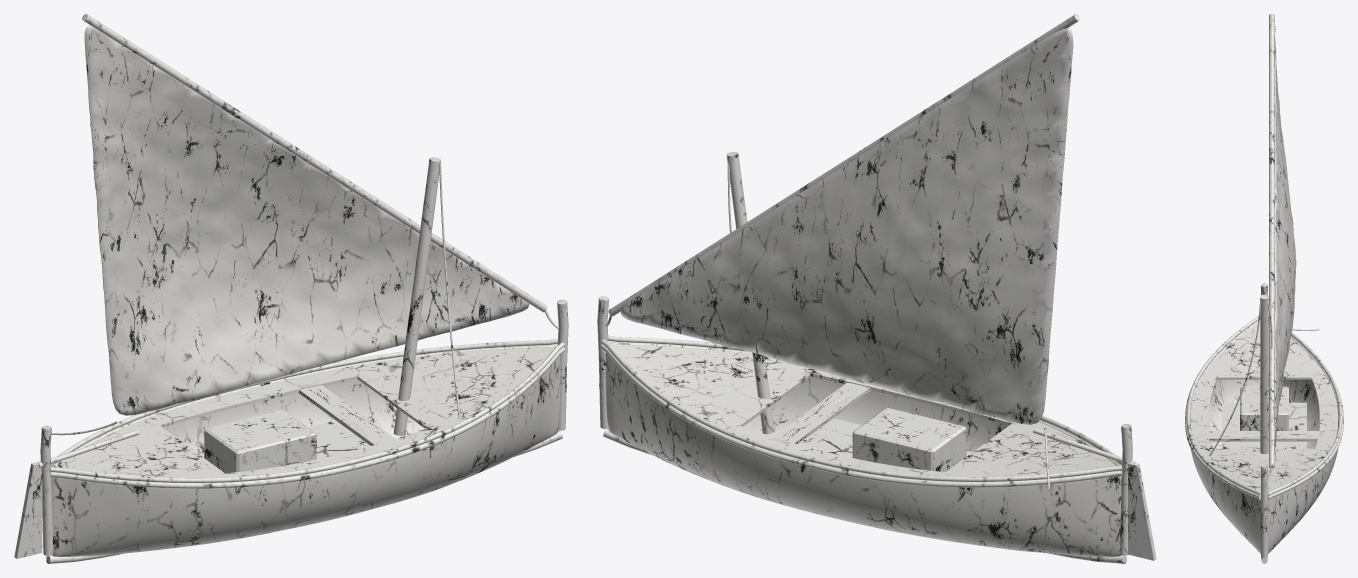
File: llaut-cracked.glb
3 views of the same model, side by side, from view 1: azimuth 30°, elevation 25°; view 2: azimuth 150°, elevation 25°; view 3: azimuth 270°, elevation 25° (orthographic). The views are drawn at different scales.
Parts seen in each view (by area): view 1: Lateen Sail, Llaut Hull, Deck, Engine Box, Lateen Yard, Mast, Rubbing Strake.001, Gunwale.001, Gunwale, Thwart, Rudder, Cockpit Floor (+3 smaller); view 2: Lateen Sail, Llaut Hull, Deck, Engine Box, Rubbing Strake, Gunwale, Lateen Yard, Thwart, Rudder, Mast, Cockpit Floor, Gunwale.001 (+2 smaller); view 3: Deck, Llaut Hull, Lateen Sail, Lateen Yard, Cockpit Floor, Engine Box, Mast, Thwart, Gunwale.001, Gunwale, Stem Post, Rubbing Strake.001 (+2 smaller).
Boxes of the visible parts, x1=… form: Lateen Sail: x1=84, y1=25, x2=529, y2=415; Llaut Hull: x1=51, y1=345, x2=560, y2=556; Deck: x1=56, y1=345, x2=556, y2=477; Engine Box: x1=204, y1=410, x2=316, y2=473; Lateen Yard: x1=82, y1=14, x2=547, y2=312; Mast: x1=394, y1=157, x2=440, y2=435; Rubbing Strake.001: x1=50, y1=347, x2=565, y2=488; Gunwale.001: x1=50, y1=342, x2=564, y2=482; Gunwale: x1=51, y1=338, x2=557, y2=466; Thwart: x1=298, y1=385, x2=395, y2=445; Rudder: x1=14, y1=461, x2=42, y2=558; Cockpit Floor: x1=198, y1=420, x2=370, y2=459; Lateen Sail: x1=620, y1=28, x2=1073, y2=424; Llaut Hull: x1=605, y1=342, x2=1121, y2=556; Deck: x1=609, y1=342, x2=1116, y2=476; Engine Box: x1=852, y1=407, x2=966, y2=471; Rubbing Strake: x1=600, y1=344, x2=1122, y2=487; Gunwale: x1=601, y1=339, x2=1122, y2=481; Lateen Yard: x1=608, y1=14, x2=1080, y2=316; Thwart: x1=773, y1=382, x2=871, y2=444; Rudder: x1=1128, y1=462, x2=1156, y2=560; Mast: x1=726, y1=151, x2=774, y2=434; Cockpit Floor: x1=798, y1=418, x2=972, y2=457; Gunwale.001: x1=608, y1=335, x2=1121, y2=465; Deck: x1=1190, y1=321, x2=1338, y2=492; Llaut Hull: x1=1190, y1=320, x2=1338, y2=553; Lateen Sail: x1=1274, y1=26, x2=1296, y2=460; Lateen Yard: x1=1269, y1=14, x2=1274, y2=468; Cockpit Floor: x1=1222, y1=402, x2=1306, y2=448; Engine Box: x1=1240, y1=386, x2=1288, y2=430; Mast: x1=1260, y1=294, x2=1268, y2=453; Thwart: x1=1209, y1=431, x2=1319, y2=441; Gunwale.001: x1=1186, y1=315, x2=1260, y2=496; Gunwale: x1=1268, y1=313, x2=1342, y2=496; Stem Post: x1=1261, y1=465, x2=1267, y2=558; Rubbing Strake.001: x1=1185, y1=319, x2=1260, y2=499.
Bounding box in the file's own units: 7.53 × 7.11 × 2.61.
Materials: 21 (21 with a texture image).
